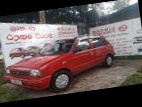car: (0, 30, 120, 98)
